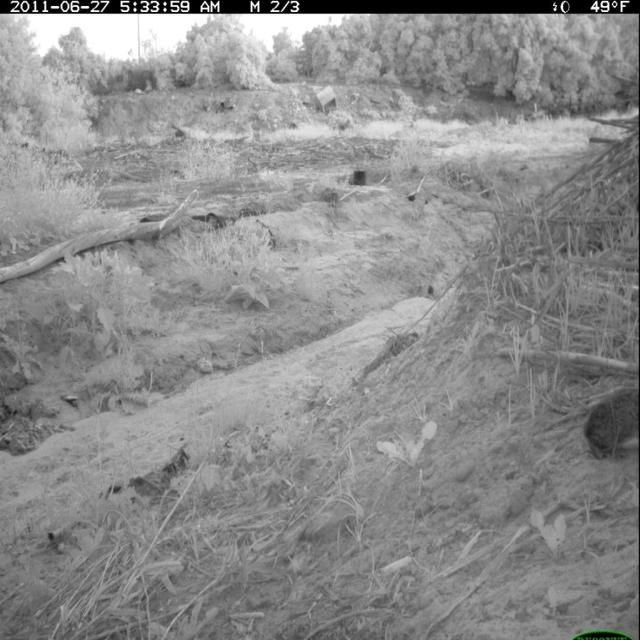rabbit: (577, 371, 640, 468)
